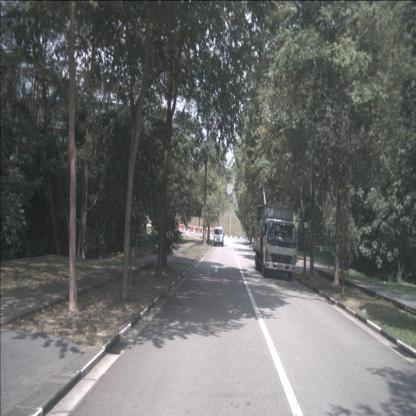vehicle-car: (214, 226, 223, 247)
vehicle-truck: (253, 204, 297, 279)
